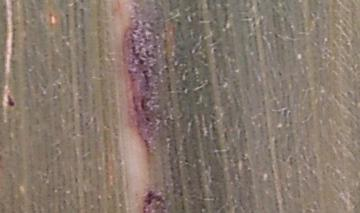tarspot: (143, 190, 164, 205), (140, 69, 151, 92), (5, 93, 16, 108), (137, 56, 146, 67), (139, 95, 145, 110), (143, 114, 152, 123), (272, 31, 279, 39), (182, 157, 189, 163), (277, 70, 283, 77), (211, 47, 217, 53)
